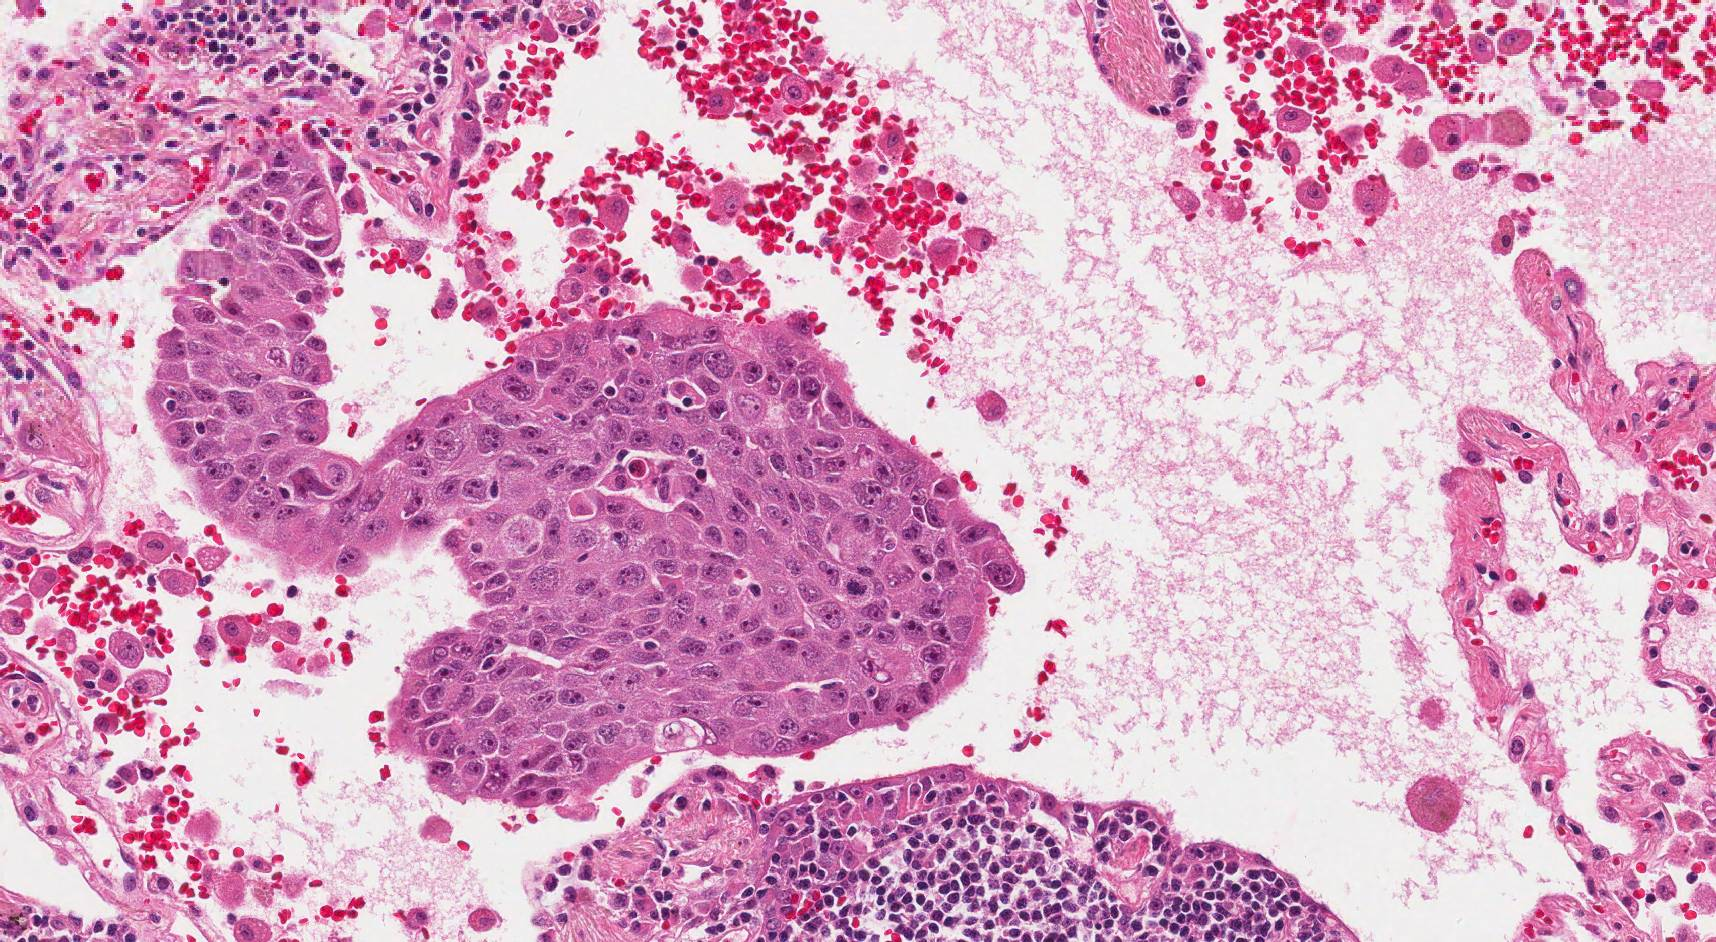stas: (147, 138, 1024, 807)
